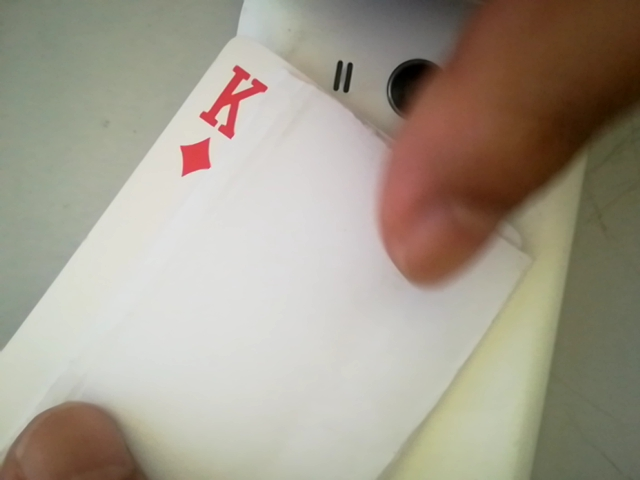fk k: (173, 57, 271, 183)
